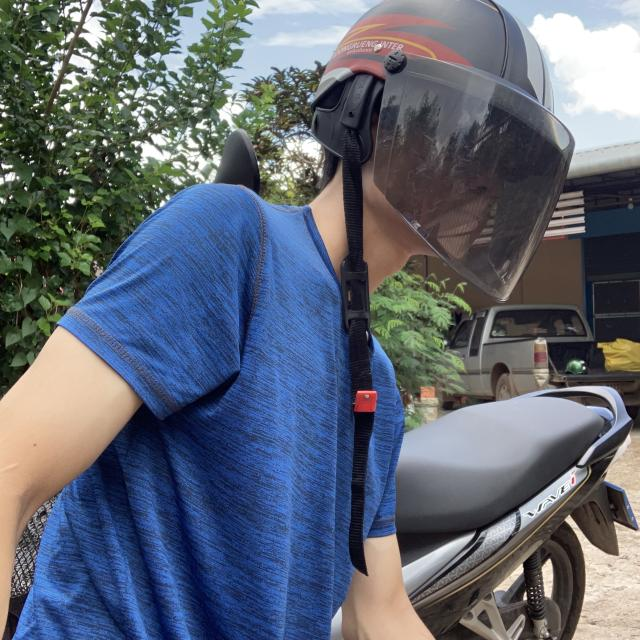illegal_helmet: (300, 0, 577, 580)
